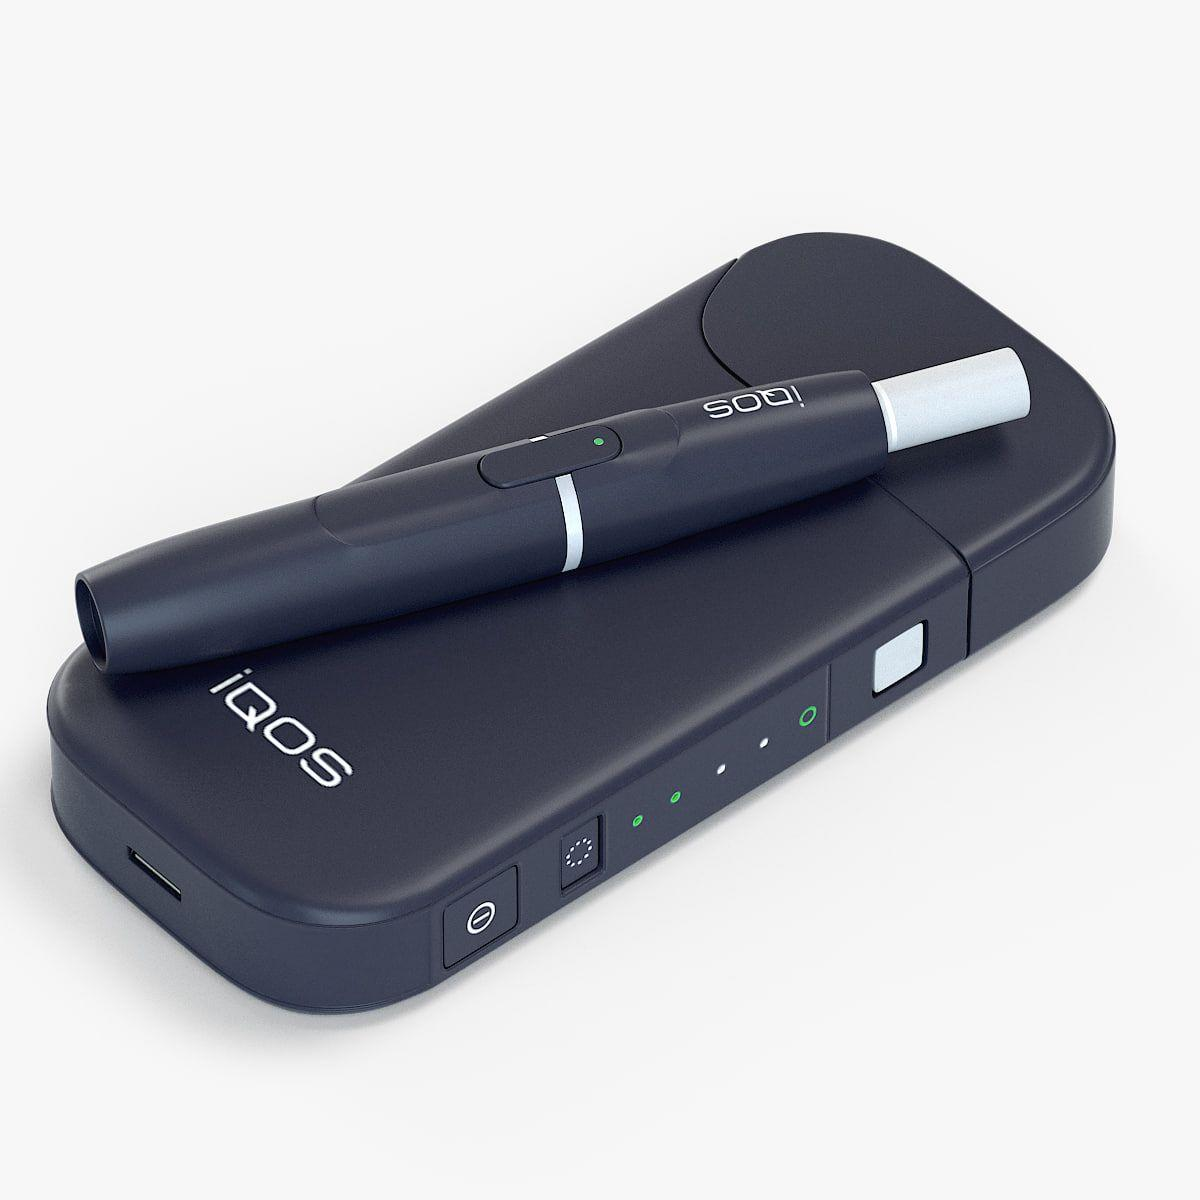iqos: (77, 348, 1030, 673)
